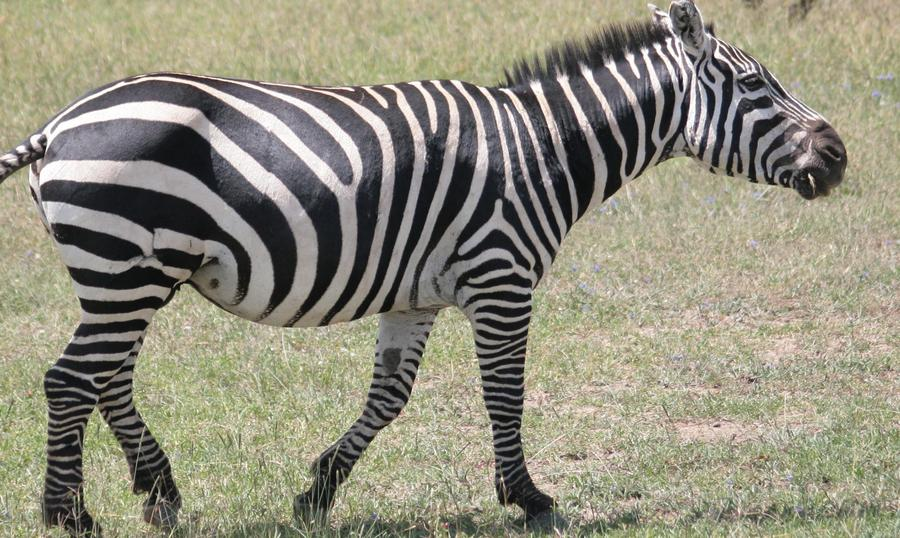zebra_plains: (56, 57, 554, 329)
